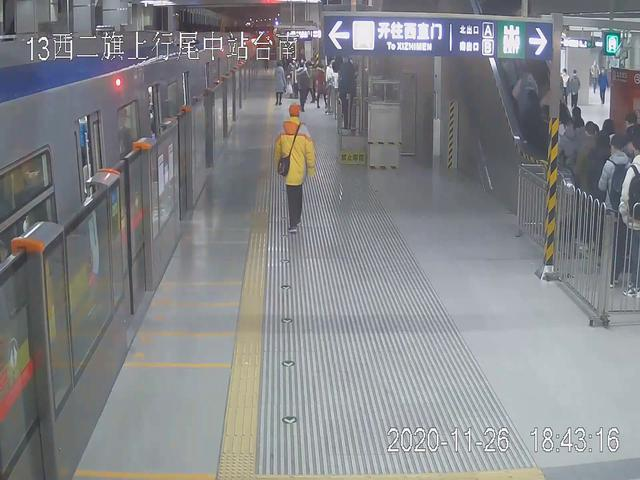person: (272, 98, 316, 235)
